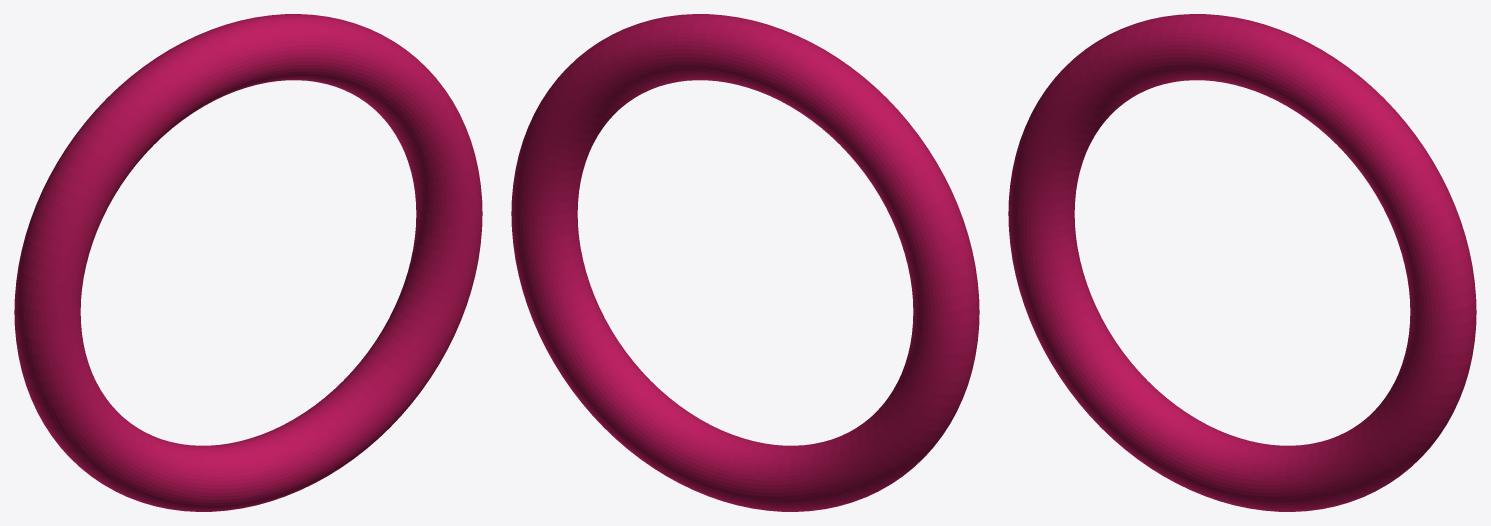
3 renders of one model, left to right at view 1: azimuth 30°, elevation 25°; view 2: azimuth 150°, elevation 25°; view 3: azimuth 330°, elevation 25°, orthographic.
Parts seen in each view (by area): view 1: world; view 2: world; view 3: world.
Part boxes in pixels (x1=…): world: x1=14, y1=14, x2=482, y2=511; world: x1=511, y1=14, x2=979, y2=511; world: x1=1008, y1=14, x2=1476, y2=511.
Bounding box in the file's own units: 26.67 × 26.67 × 3.33.
